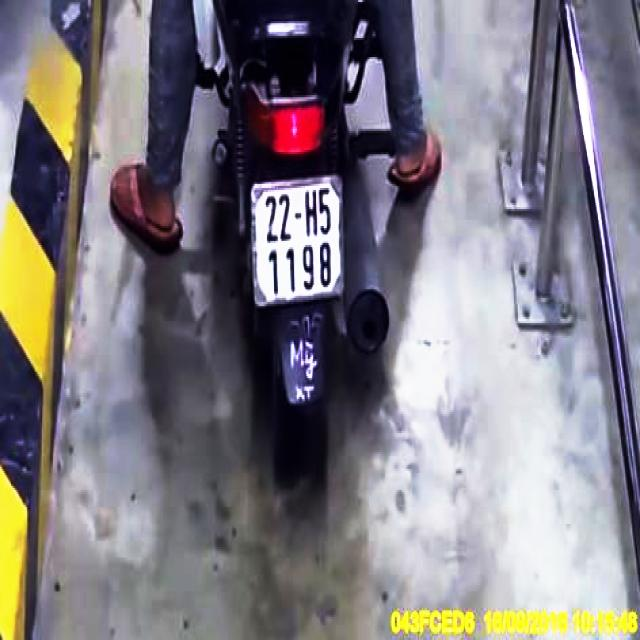license_plate: (252, 177, 348, 307)
